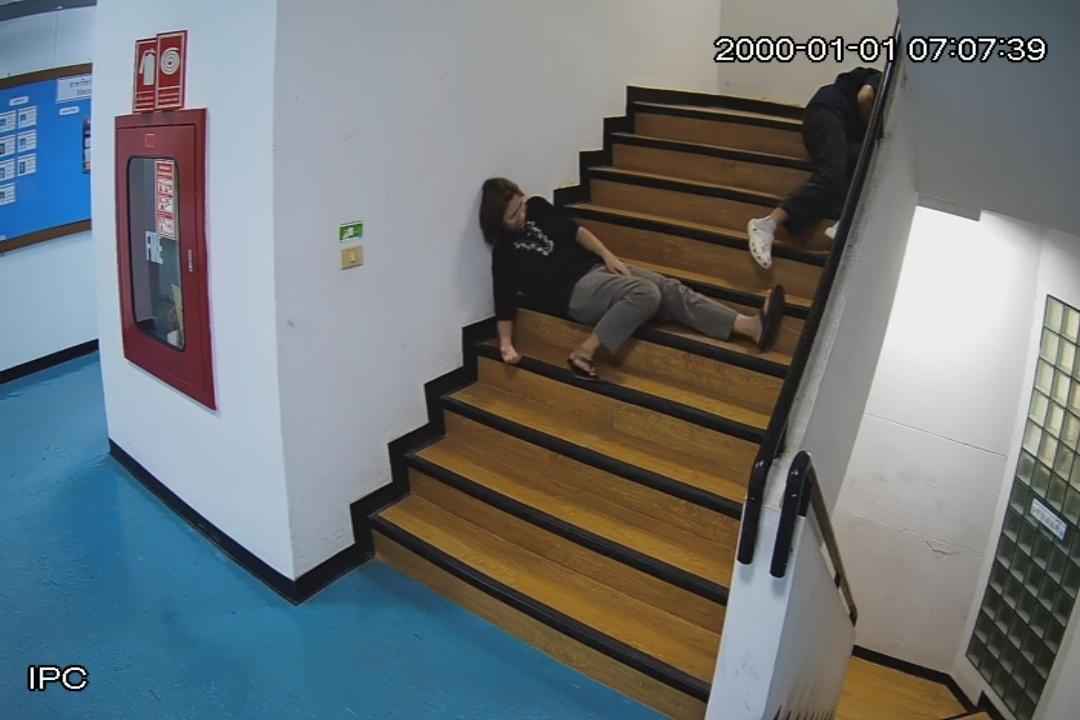fall: (470, 174, 794, 390)
